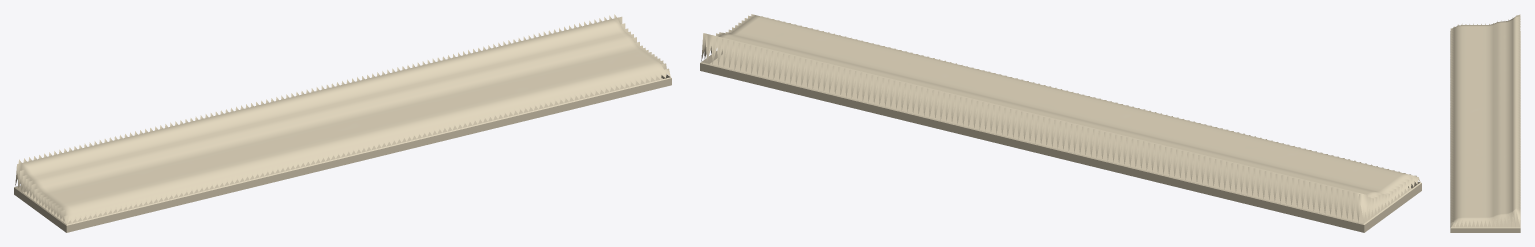
File: mahsulot.glb
3 views of the same model, side by side, from view 1: azimuth 30°, elevation 25°; view 2: azimuth 150°, elevation 25°; view 3: azimuth 270°, elevation 25° (orthographic). The views are drawn at different scales.
Visible parts, largest first — view 1: mahsulot; view 2: mahsulot; view 3: mahsulot.
Part boxes in pixels (x1=…): mahsulot: x1=14, y1=14, x2=671, y2=232; mahsulot: x1=700, y1=14, x2=1421, y2=232; mahsulot: x1=1450, y1=14, x2=1520, y2=232.
Size of the model in its own units: 1.2 by 0.0647 by 0.18.
